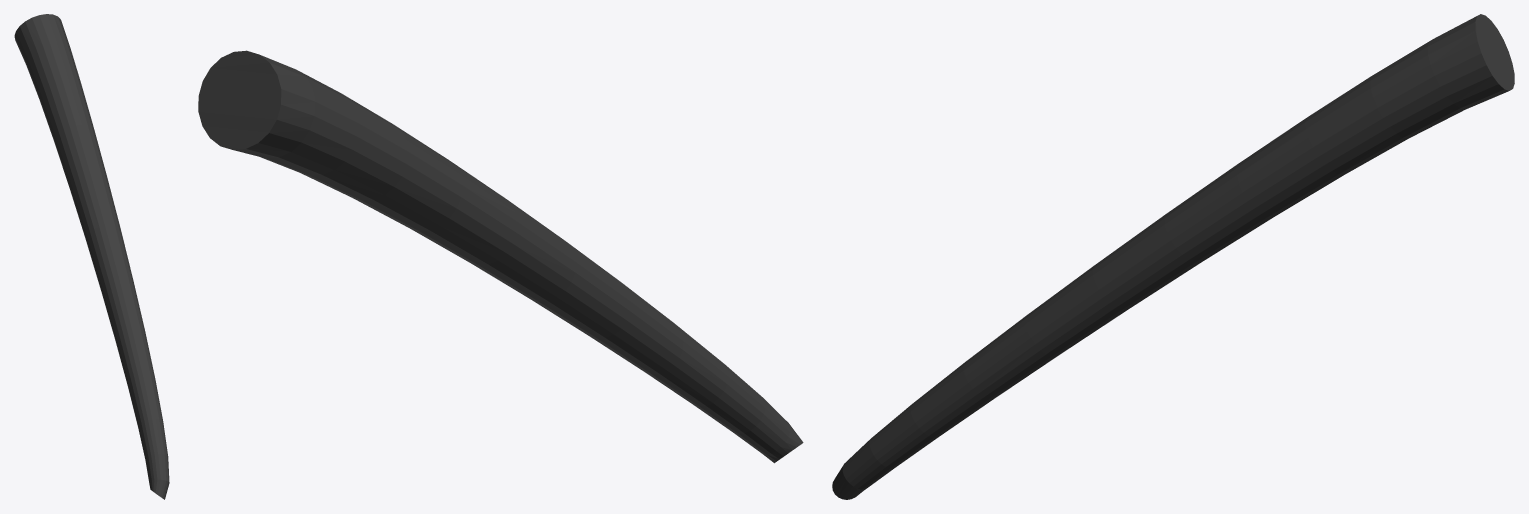
Rendered from n_II_optic.glb.
The picture shows the model from 3 angles, left to right: view 1: azimuth 30°, elevation 25°; view 2: azimuth 150°, elevation 25°; view 3: azimuth 270°, elevation 25°; orthographic projection. The views are drawn at different scales.
Parts seen in each view (by area): view 1: n_II_optic; view 2: n_II_optic; view 3: n_II_optic.
Part boxes in pixels (x1=…): n_II_optic: x1=14, y1=14, x2=169, y2=499; n_II_optic: x1=198, y1=50, x2=803, y2=463; n_II_optic: x1=832, y1=14, x2=1514, y2=499.
Bounding box in the file's own units: 0.00128 × 0.00381 × 0.00438.
Materials: 1 (1 with a texture image).
